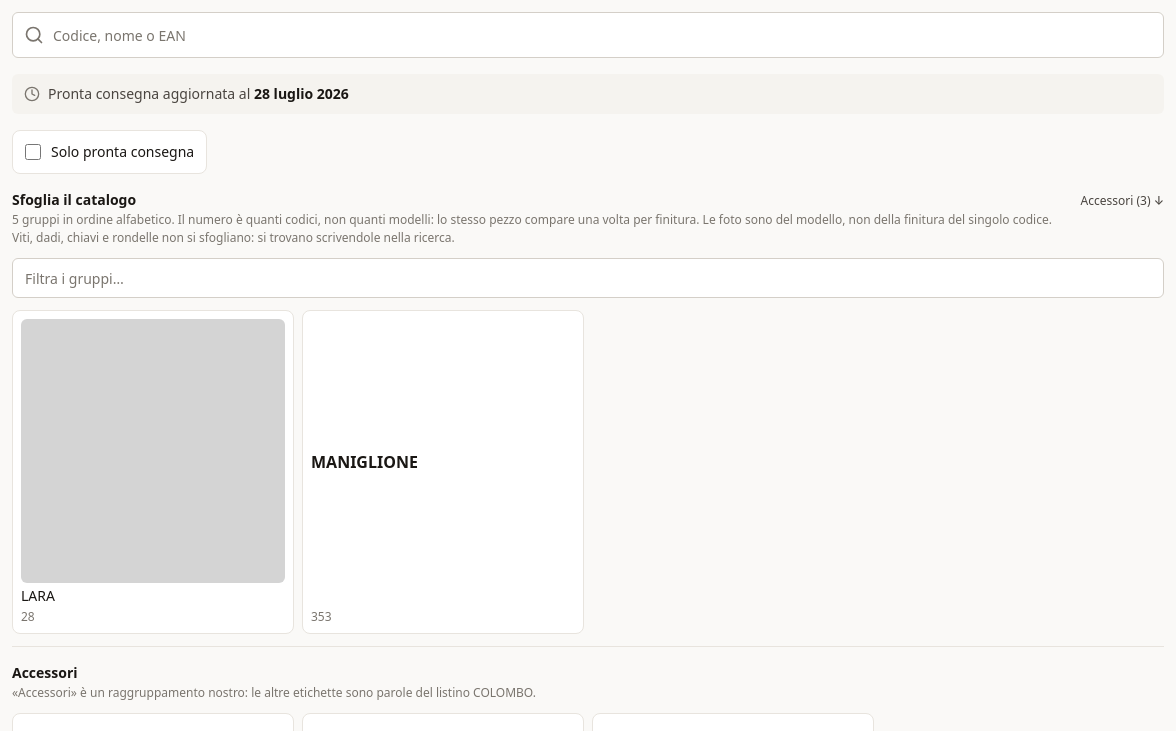
ManiglieClient — la sezione Accessori › digitando «accessori» compaiono i 19, che non la contengono nel nome
Type "accessori" into the field with placeholder "Filtra i gruppi…" at (588,278), box [12,258,1164,298]
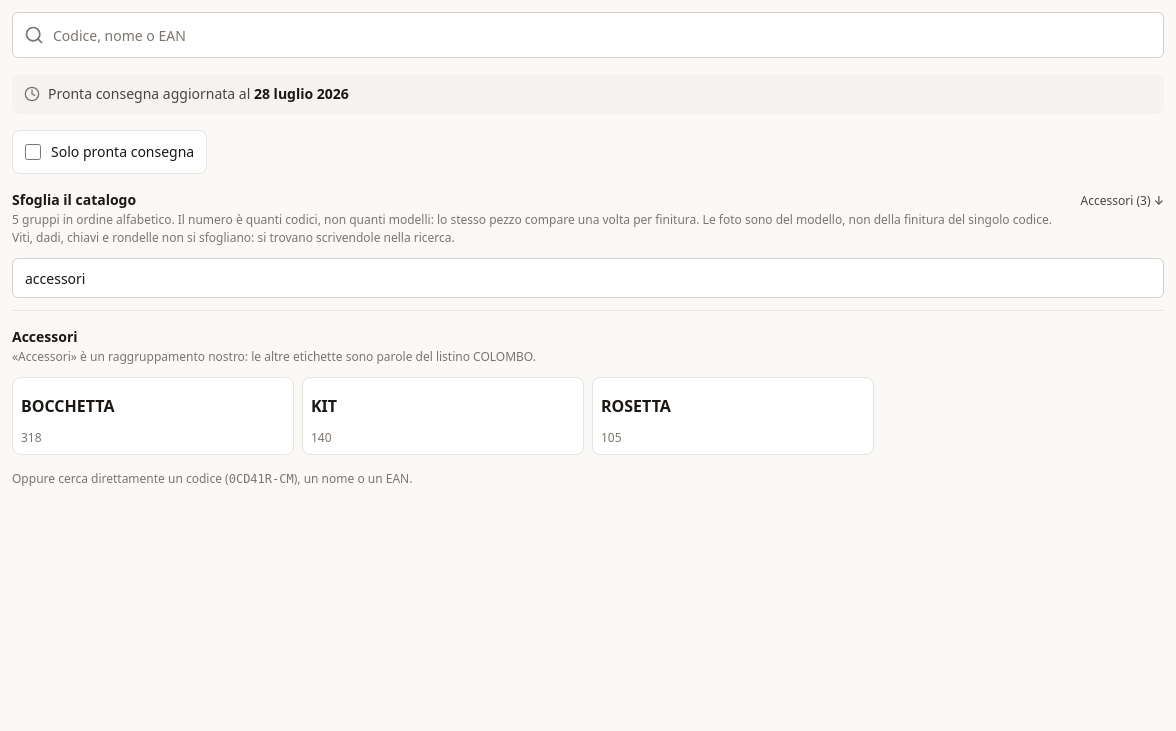
Expected: the text "KIT" is shown, [311,395,337,417]
Expected: the link "LARA" is gone
